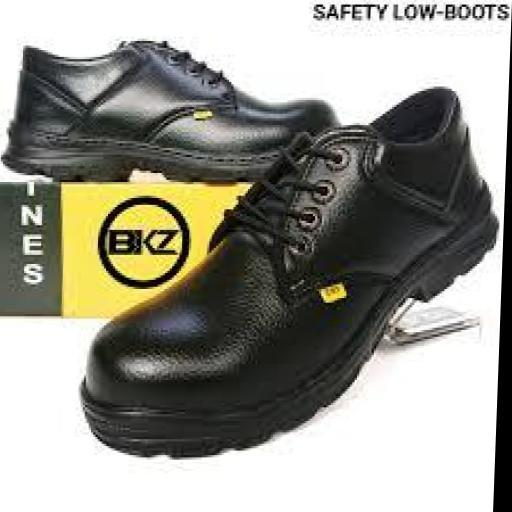safety_boots: (5, 26, 318, 184), (71, 316, 357, 464)
